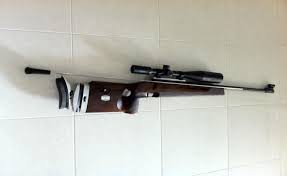Gun: (103, 62, 274, 105)
